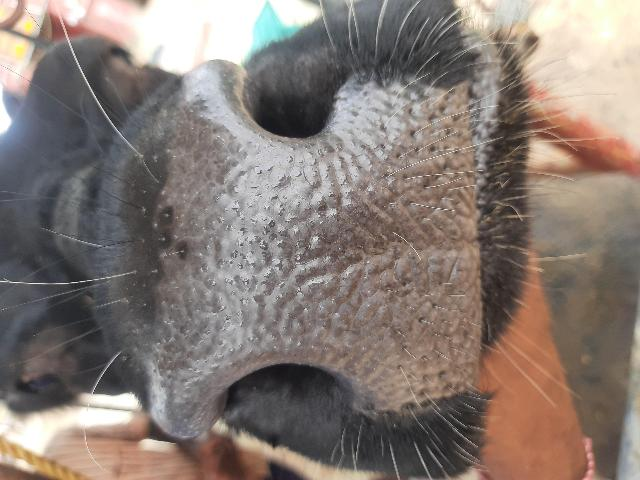Muzzle: (172, 126, 470, 366)
